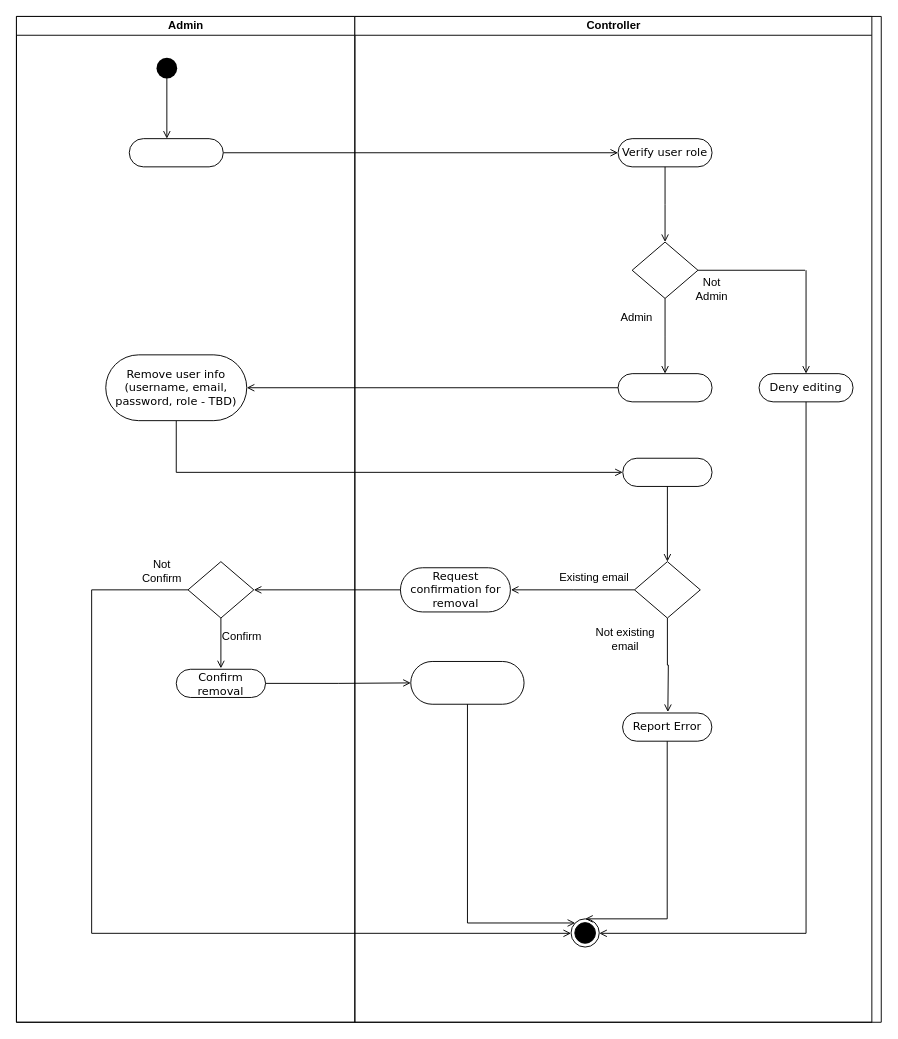
The diagram is 898 pixels wide and 1039 high, and some of its shapes have lost their labels. The shapes that lost their labels are listed below. From the top down, each one's centre as x and y in pixels, then its label:
point 175,152: Log in
point 664,387: Allow editing
point 667,471: Verify user email
point 467,682: Remove user info from record
